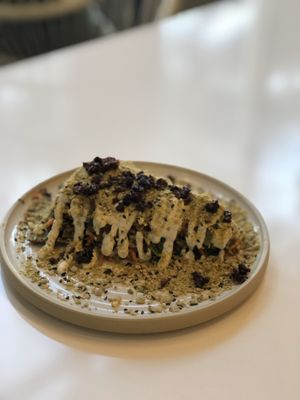sushi: (3, 156, 271, 334)
